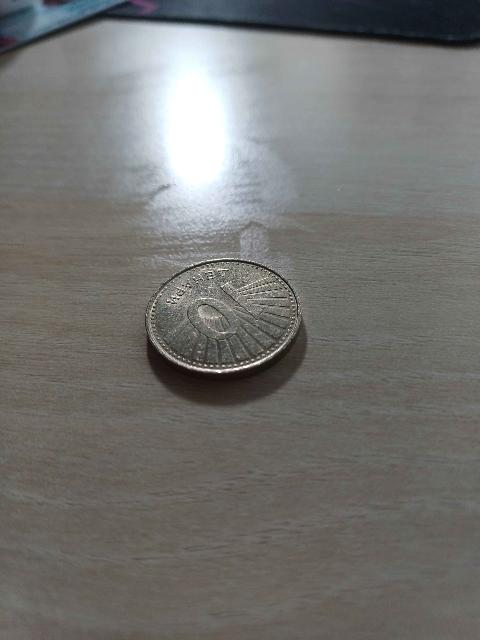10_coin: (146, 259, 301, 377)
